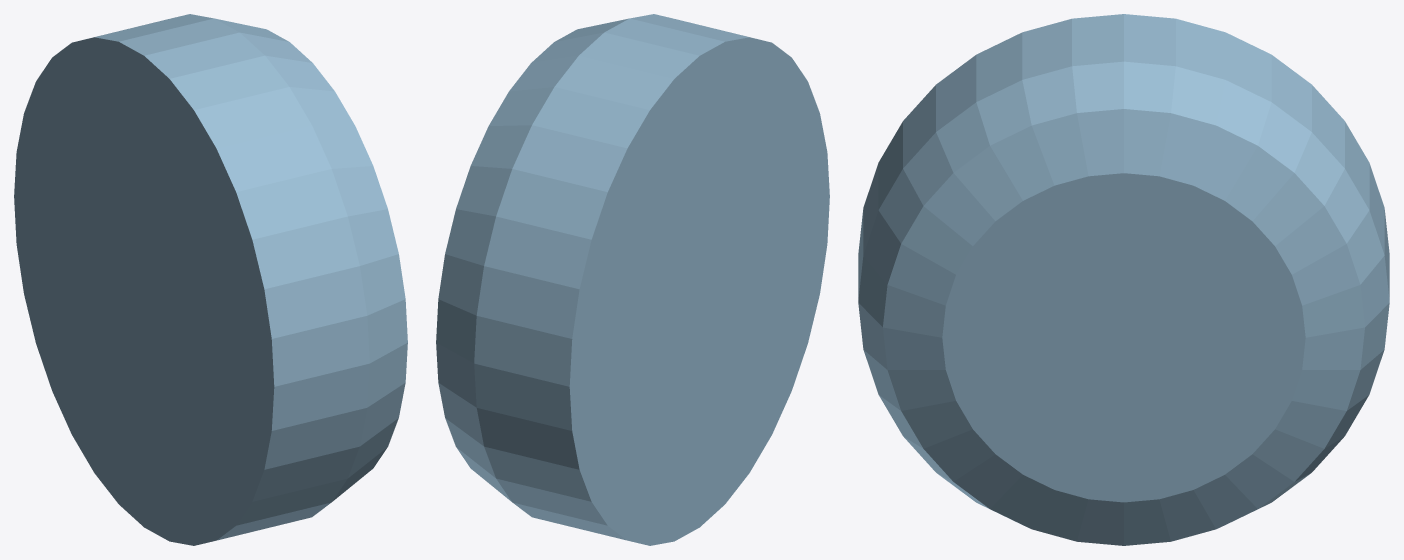
File: Кнопка сети v2.fbx
3 renders of one model, left to right at view 1: azimuth 30°, elevation 25°; view 2: azimuth 150°, elevation 25°; view 3: azimuth 270°, elevation 25°, orthographic. The views are drawn at different scales.
Visible parts, largest first — view 1: Кнопка сети (нестатичная); view 2: Кнопка сети (нестатичная); view 3: Кнопка сети (нестатичная).
Boxes of the visible parts, x1,y1,x2,y2 form: Кнопка сети (нестатичная): (14,14,407,545); Кнопка сети (нестатичная): (436,14,829,545); Кнопка сети (нестатичная): (858,14,1389,545).
Bounding box in the file's own units: 0.5001 × 1.35 × 1.35.
